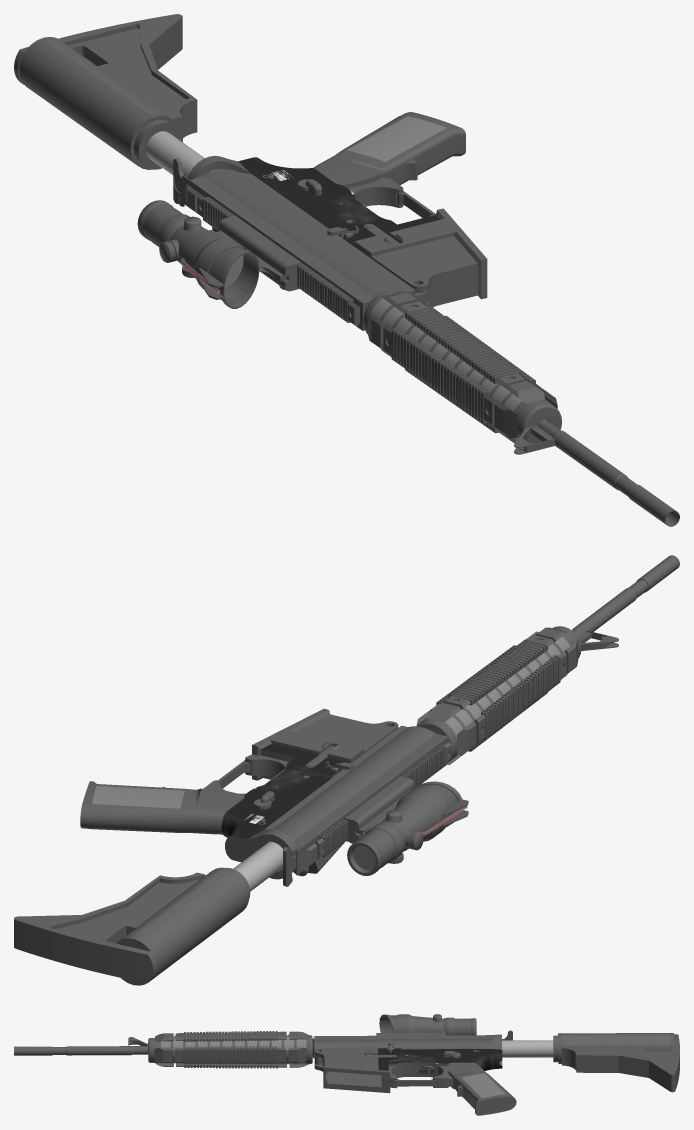
Rendered from better_ar15_1.glb.
3 renders of one model, top to bottom at view 1: azimuth 30°, elevation 25°; view 2: azimuth 150°, elevation 25°; view 3: azimuth 270°, elevation 25°, orthographic. The views are drawn at different scales.
Visible parts, largest first — view 1: 3DGeom-243, 3DGeom-286, 3DGeom-288, 3DGeom-267, 3DGeom-6, 3DGeom-283, 3DGeom-274, 3DGeom-260, 3DGeom-9, 3DGeom-285, 3DGeom-33, 3DGeom-34 (+9 smaller); view 2: 3DGeom-288, 3DGeom-243, 3DGeom-286, 3DGeom-283, 3DGeom-267, 3DGeom-6, 3DGeom-274, 3DGeom-260, 3DGeom-285, 3DGeom-9, 3DGeom-34, 3DGeom-289 (+8 smaller); view 3: 3DGeom-288, 3DGeom-267, 3DGeom-243, 3DGeom-283, 3DGeom-274, 3DGeom-6, 3DGeom-286, 3DGeom-260, 3DGeom-287, 3DGeom-102, 3DGeom-34, 3DGeom-289 (+11 smaller).
Part boxes in pixels (x1,y1,x2,y2): 3DGeom-243: (183,169,414,303); 3DGeom-286: (19,37,181,169); 3DGeom-288: (14,14,197,142); 3DGeom-267: (338,208,487,307); 3DGeom-6: (137,200,259,308); 3DGeom-283: (313,112,465,188); 3DGeom-274: (238,157,396,228); 3DGeom-260: (537,419,679,526); 3DGeom-9: (219,216,302,291); 3DGeom-285: (347,116,446,161); 3DGeom-33: (363,290,561,443); 3DGeom-34: (370,298,548,421); 3DGeom-288: (14,872,205,983); 3DGeom-243: (264,725,447,850); 3DGeom-286: (116,867,250,985); 3DGeom-283: (80,781,244,834); 3DGeom-267: (252,708,398,780); 3DGeom-6: (347,781,462,875); 3DGeom-274: (221,759,331,839); 3DGeom-260: (572,555,679,636); 3DGeom-285: (92,786,184,808); 3DGeom-9: (343,776,414,842); 3DGeom-34: (423,637,570,759); 3DGeom-289: (233,841,283,891); 3DGeom-288: (561,1034,679,1092); 3DGeom-267: (314,1046,401,1093); 3DGeom-243: (314,1035,494,1049); 3DGeom-283: (448,1062,516,1115); 3DGeom-274: (388,1049,502,1074); 3DGeom-6: (379,1014,476,1035); 3DGeom-286: (553,1033,674,1064); 3DGeom-260: (14,1046,148,1055); 3DGeom-287: (562,1034,669,1045); 3DGeom-102: (174,1047,285,1062); 3DGeom-34: (161,1035,306,1064); 3DGeom-289: (502,1040,553,1057).
Size of the model in its own units: 32.46 by 5.91 by 103.
Materials: 11 (1 with a texture image).
